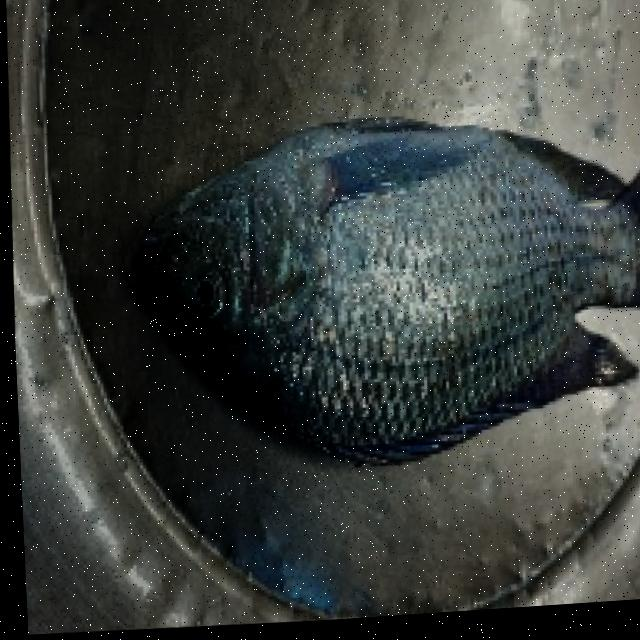Fresh: (112, 71, 640, 518)
